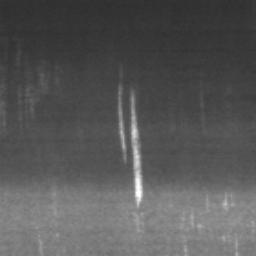Bright scratch: (131, 91, 143, 205), (118, 84, 126, 163)
